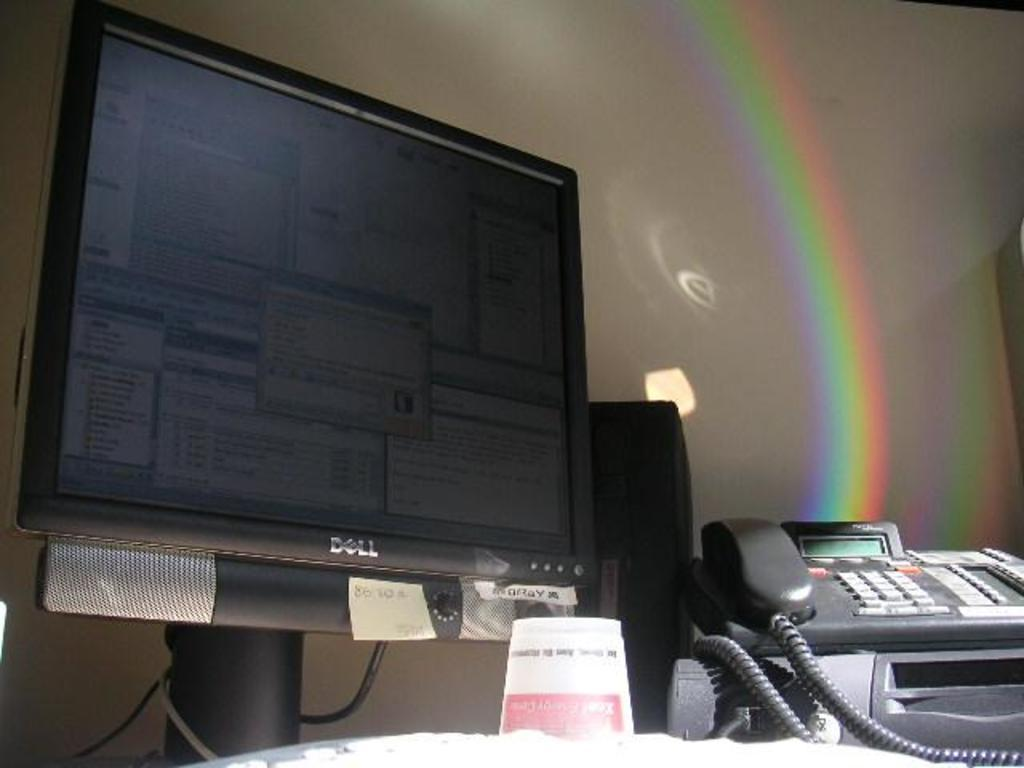Computer-monitor: (122, 90, 722, 643)
